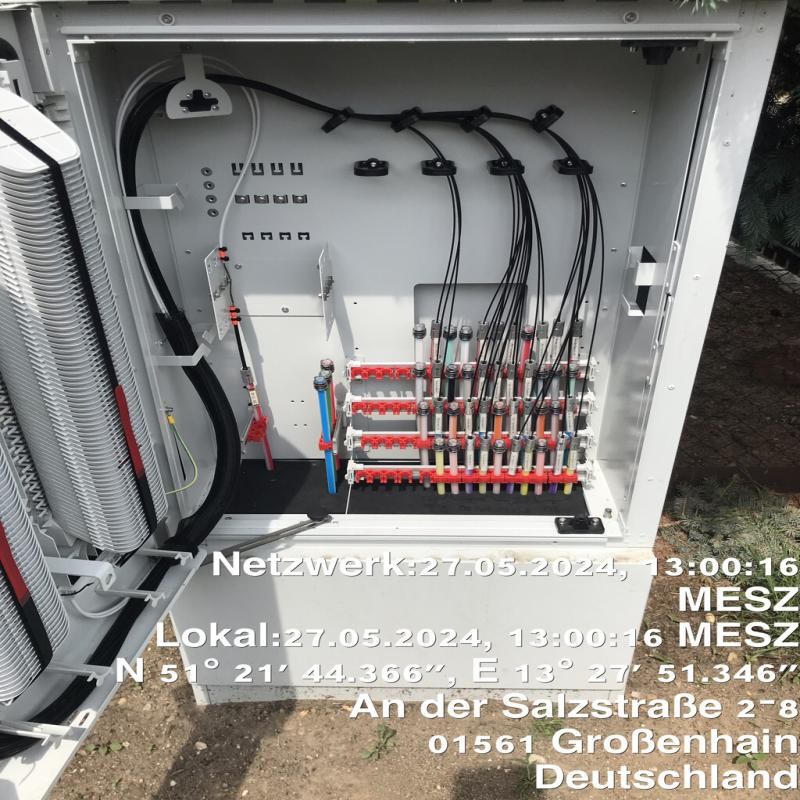NT-Gehause: (0, 0, 781, 797)
Spleiskassetten: (0, 74, 179, 558), (0, 417, 79, 705)
